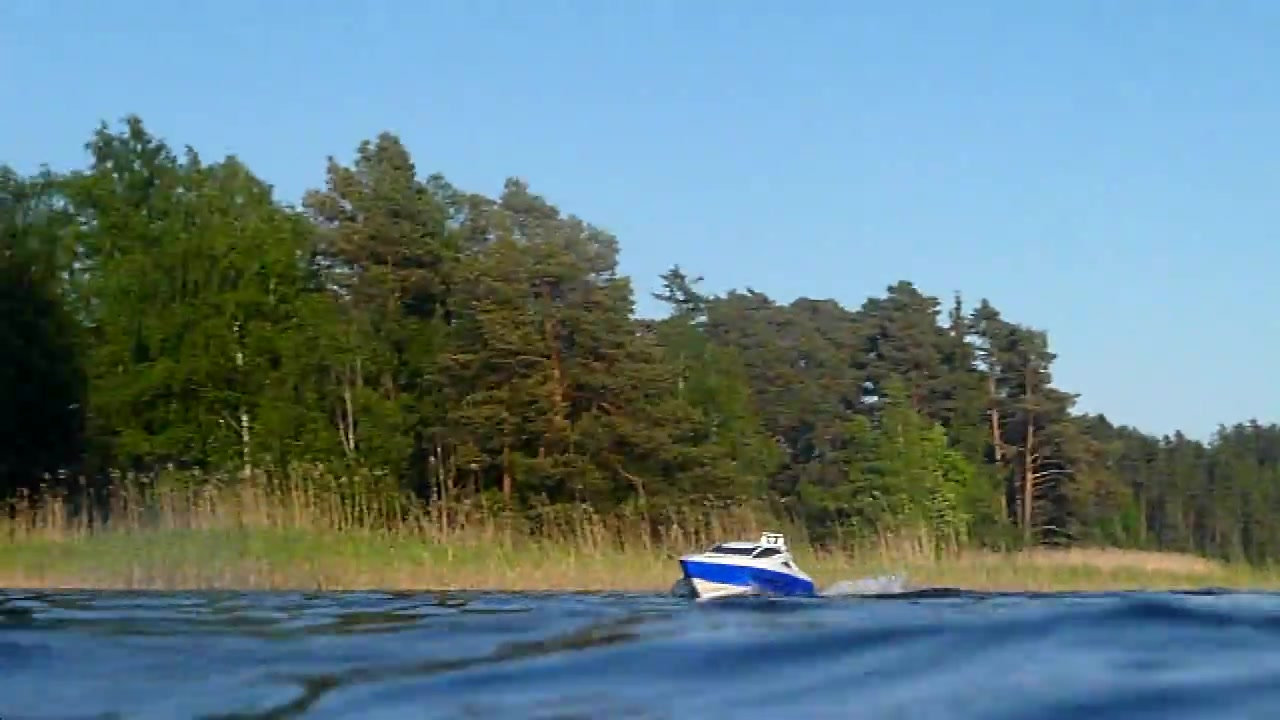boat: (678, 530, 818, 606)
